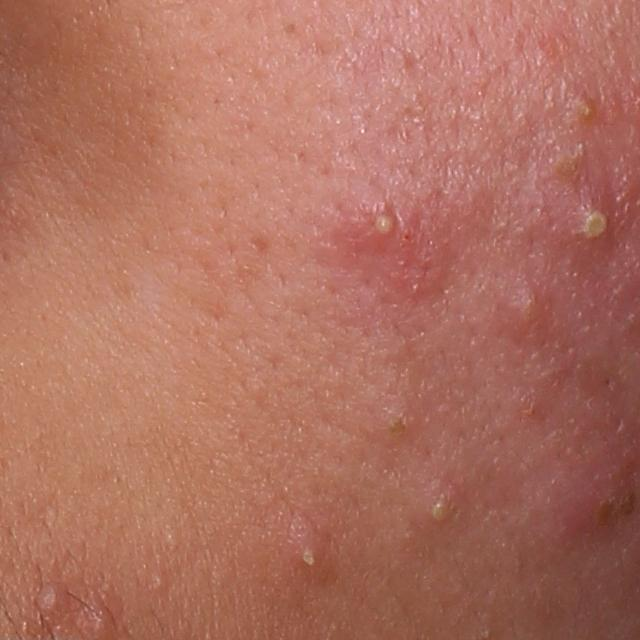comedo: (151, 570, 171, 591)
pustule: (317, 182, 401, 259), (570, 193, 625, 254), (279, 527, 333, 583), (420, 486, 466, 526)
